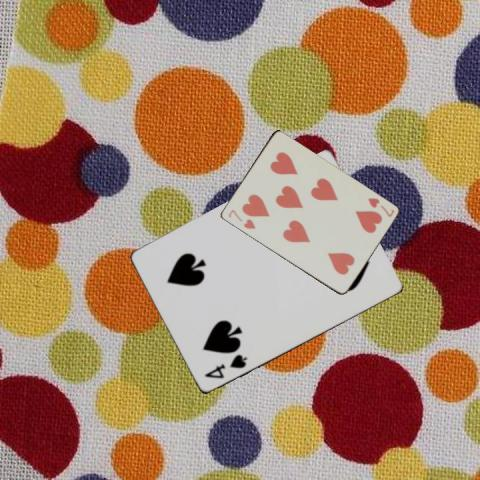4s: (201, 351, 249, 381)
7h: (365, 194, 395, 219), (225, 206, 256, 230)
